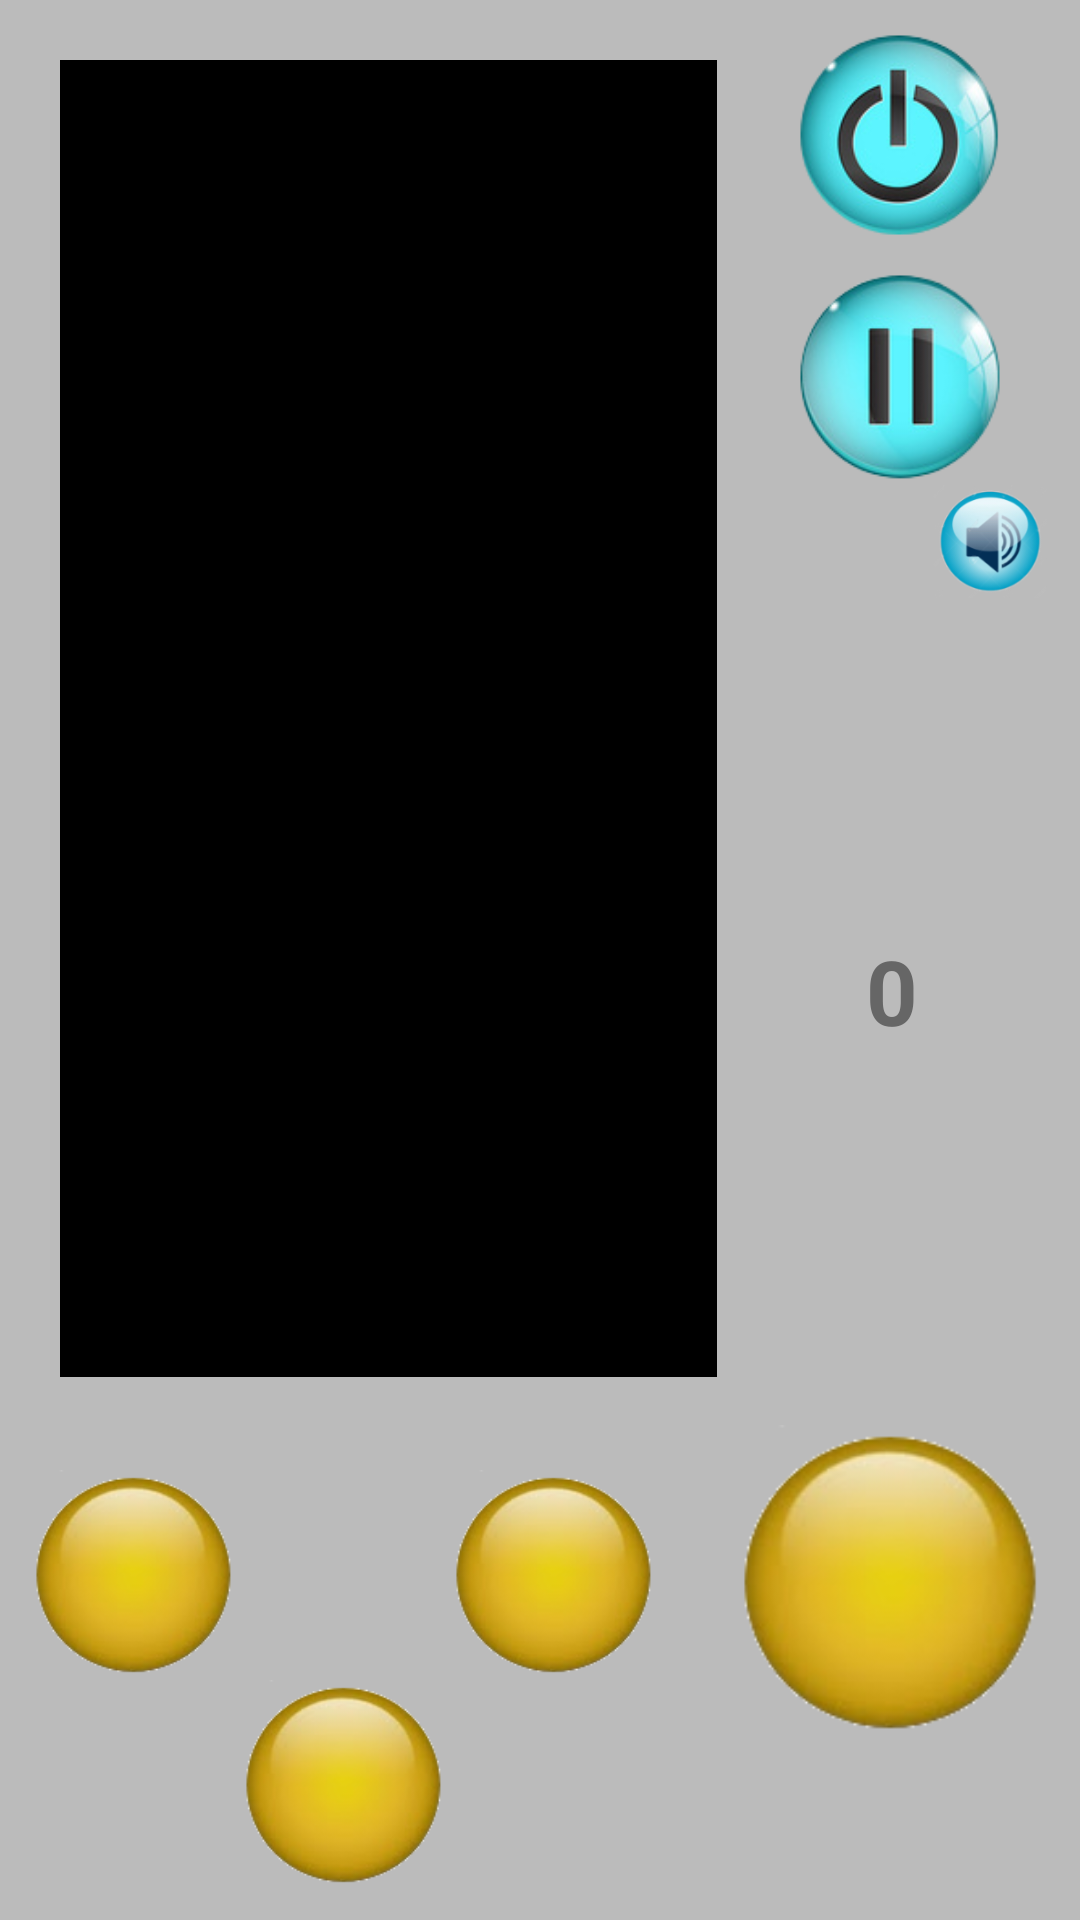

Screen size 1080x1920. Icon name, then its box in pixels as bbox=[x1, y1, x2, y2]:
pause: bbox=[800, 275, 1000, 479]
power: bbox=[800, 35, 998, 235]
volume: bbox=[940, 491, 1040, 591]
